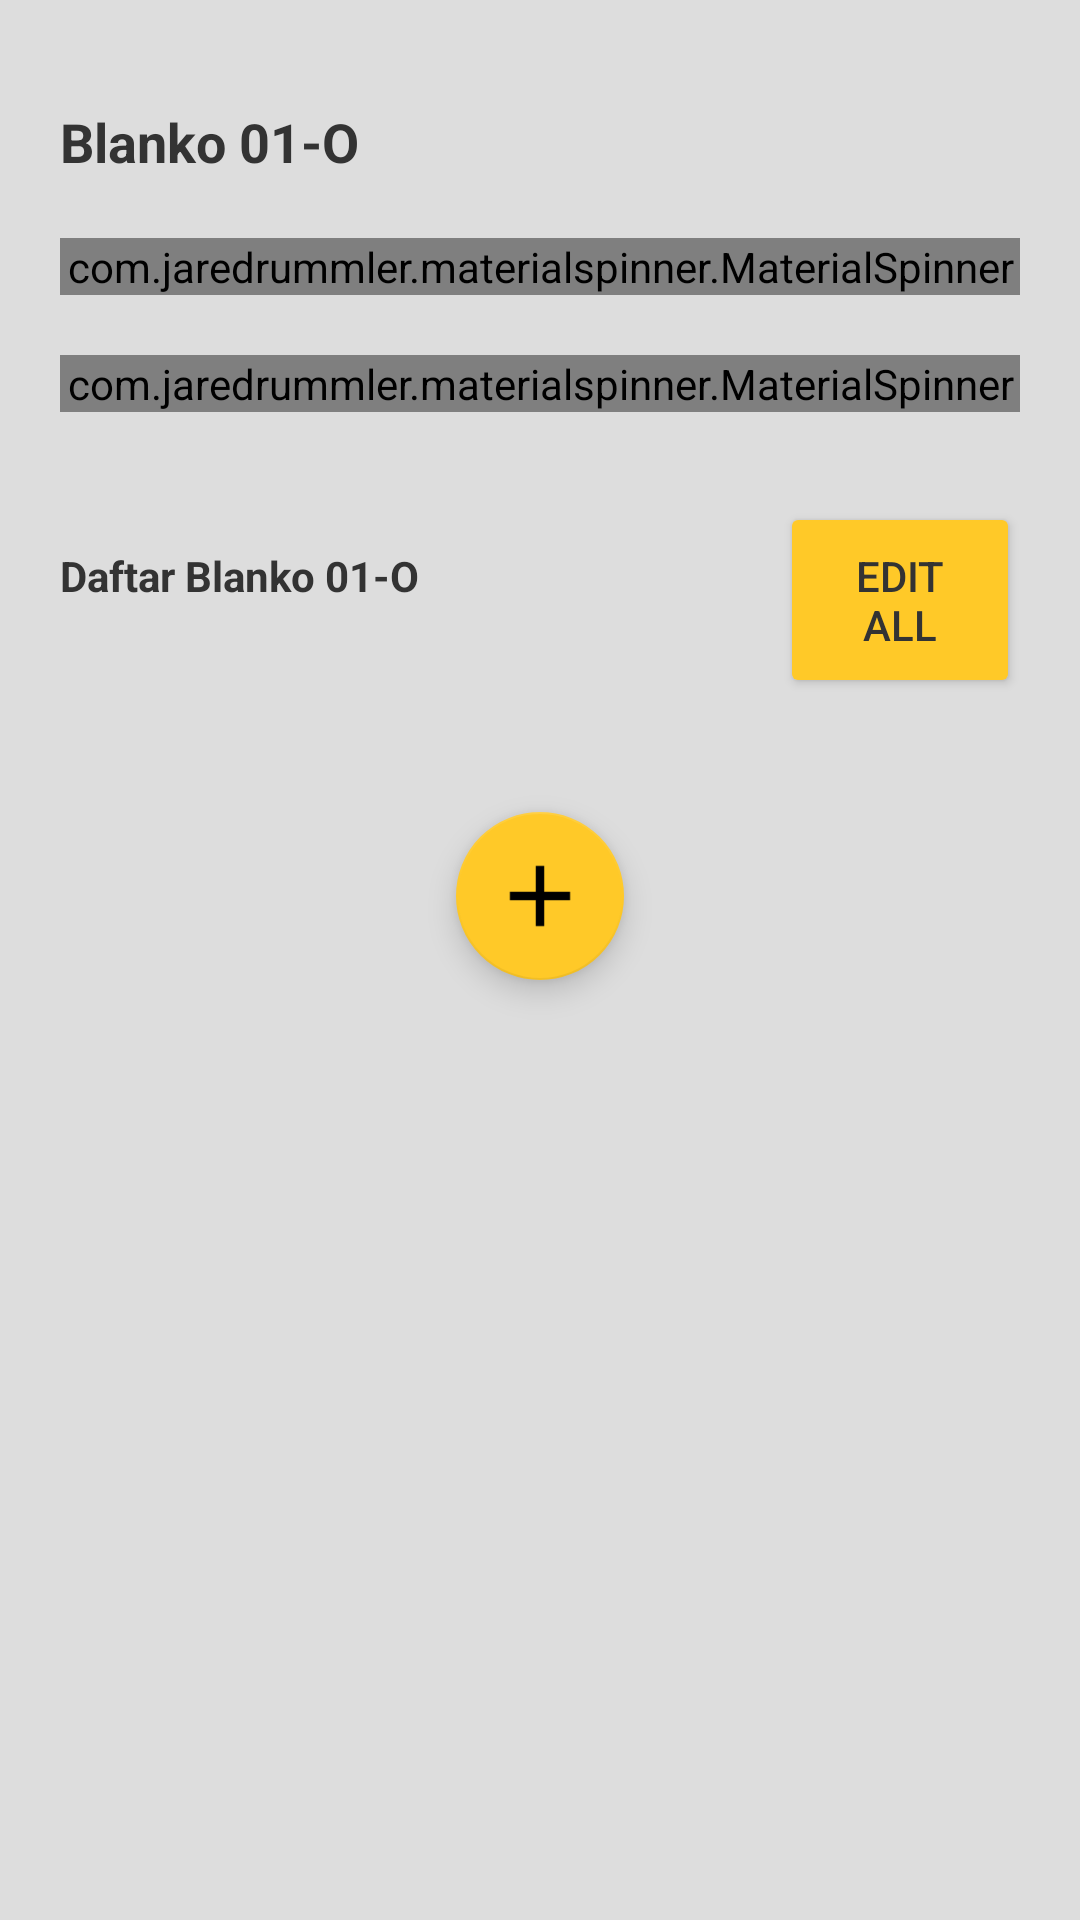

Screen size 1080px x 1920px. Icon name, then its box in pixels as (x1=x1, y1=y1, x2=x2, y2=y2):
add: (x1=456, y1=812, x2=624, y2=980)
